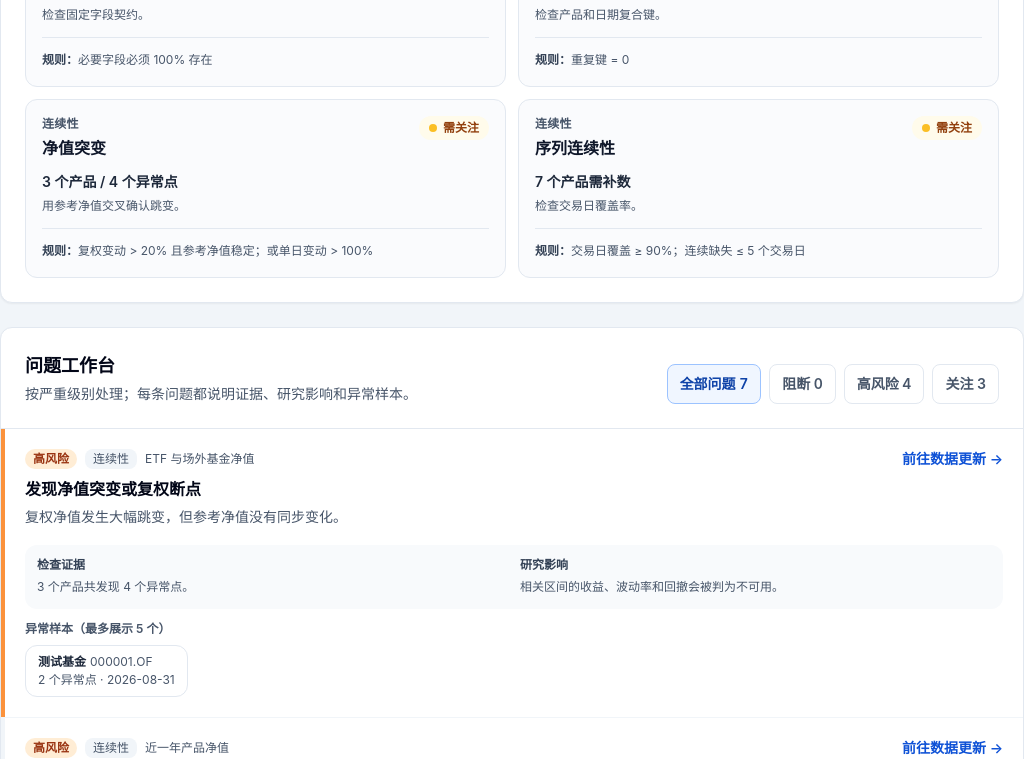
Test: DataQuality › 支持按风险等级筛选质量问题
(page scrolled)
Check: the heading "发现净值突变或复权断点" is shown, box [25,479,201,499]
Click the button "关注 3": (966, 384) [932,364,999,404]
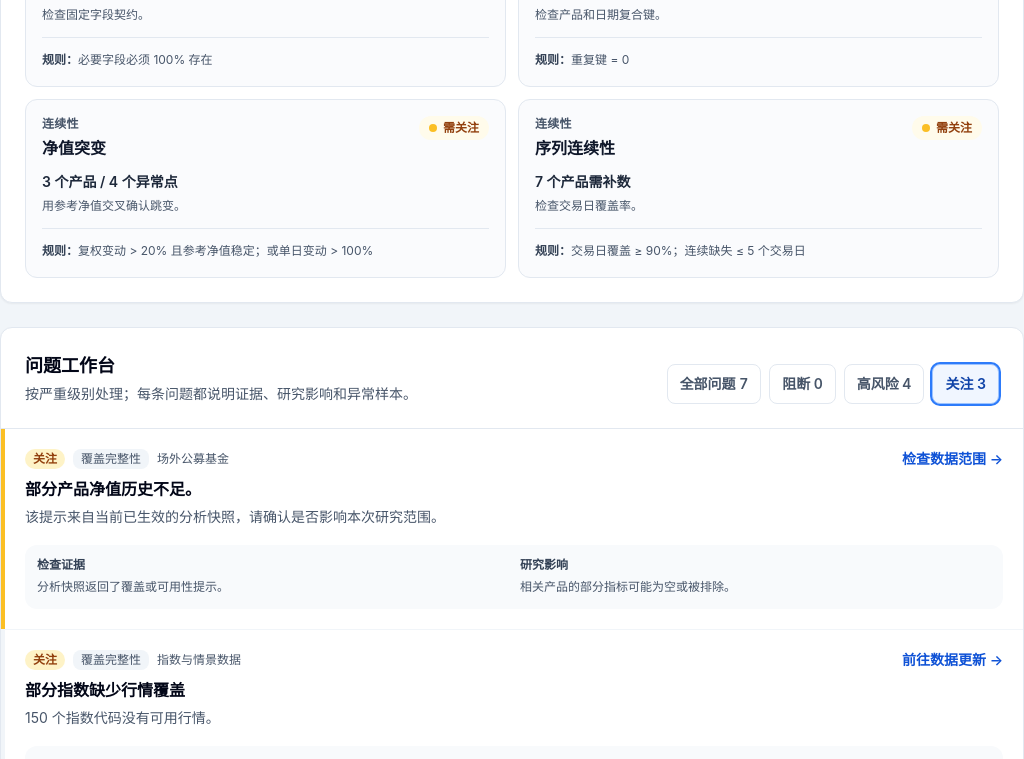
Check: the heading "部分指数缺少行情覆盖" is shown, box [25,680,185,700]
Check: the heading "发现净值突变或复权断点" is gone
